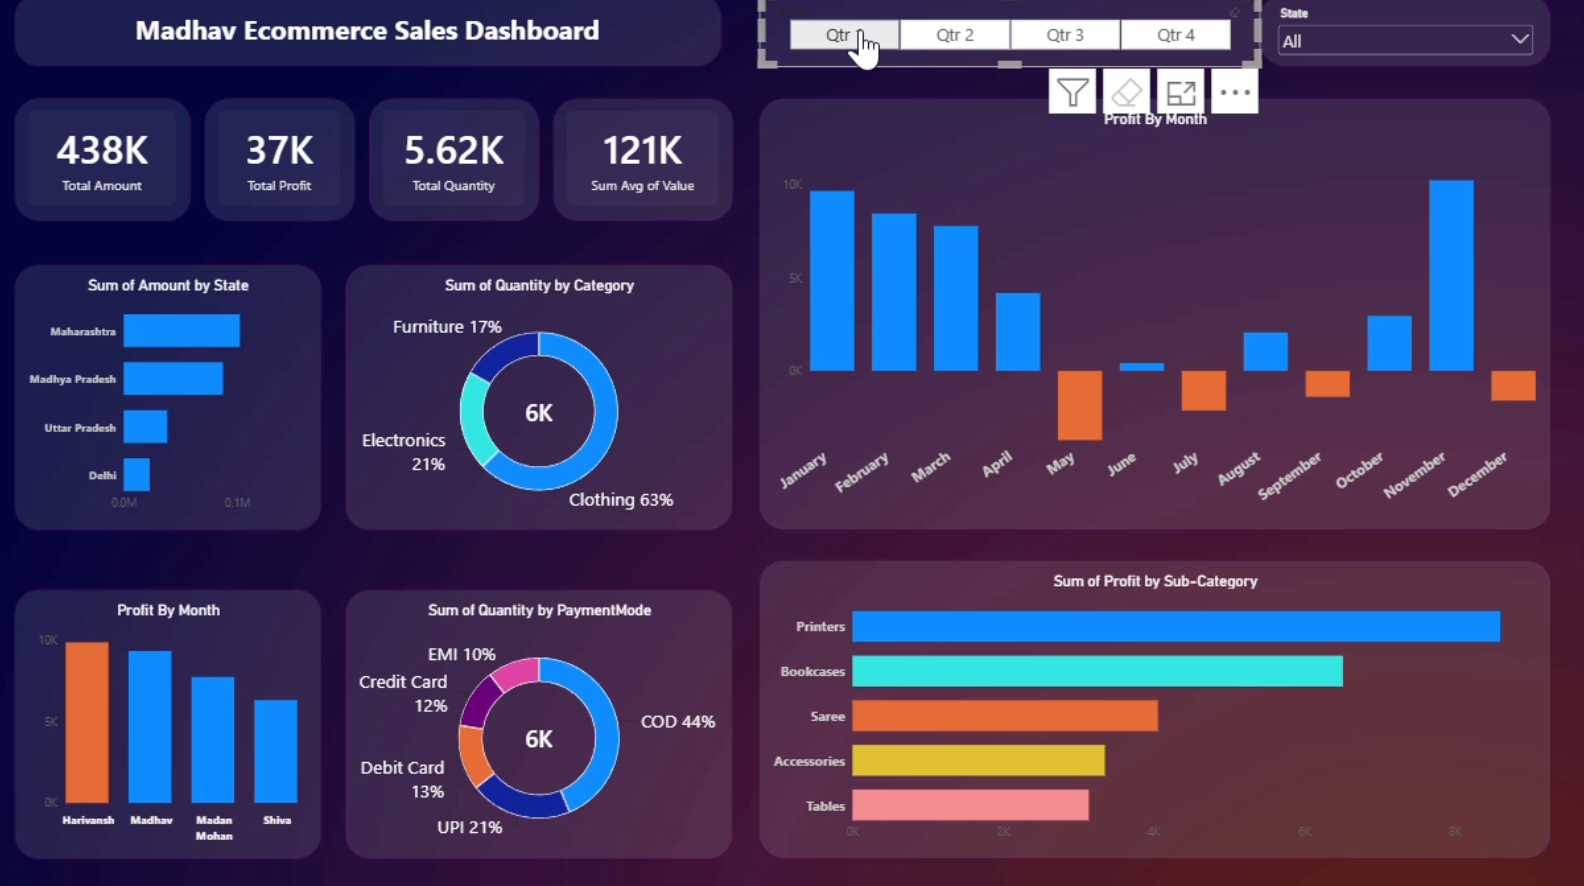

The dashboard page shown, as its layout file describes it:
{"tool":"powerbi","page":{"name":"Page 1","canvas":[1920,1080],"ordinal":0},"visuals":[{"type":"columnChart","title":"Profit By Month","fields":{"Category":["Orders.Order Date.Variation.Date Hierarchy.Month"],"Y":["Sum(Details.Profit)"]},"box":[923.3,126.5,954.4,520.1],"z":0},{"type":"textbox","box":[26.2,0,851.8,88.3],"z":1000},{"type":"barChart","fields":{"Category":["Details.Sub-Category"],"Y":["Sum(Details.Profit)"]},"box":[923.3,682.4,954.4,360.3],"z":2000},{"type":"donutChart","fields":{"Category":["Details.Category"],"Y":["Sum(Details.Quantity)"]},"box":[424.7,326.9,467.6,319.7],"z":3000},{"type":"donutChart","fields":{"Category":["Details.PaymentMode"],"Y":["Sum(Details.Quantity)"]},"box":[424.7,718.2,467.6,324.5],"z":4000},{"type":"cardVisual","fields":{"Data":["Details.Sum of Amount"]},"box":[26.2,126.5,212.3,147.9],"z":5000},{"type":"cardVisual","fields":{"Data":["Details.Total Profit"]},"box":[255.3,126.5,181.3,147.9],"z":6000},{"type":"cardVisual","fields":{"Data":["Details.Total Quantity"]},"box":[453.3,126.5,205.2,147.9],"z":7000},{"type":"cardVisual","fields":{"Data":["Details.Sum Avg of Value"]},"box":[675.2,126.5,217.1,147.9],"z":8000},{"type":"barChart","fields":{"Category":["Orders.State"],"Y":["Sum(Details.Amount)"]},"box":[26.2,326.9,369.8,319.7],"z":9000},{"type":"columnChart","title":"Profit By Month","fields":{"Category":["Orders.CustomerName"],"Y":["Sum(Details.Amount)"]},"box":[26.2,718.2,369.8,324.5],"z":10000},{"type":"slicer","fields":{"Values":["Orders.Order Date.Variation.Date Hierarchy.Quarter"]},"box":[923.3,0,603.6,88],"z":11000},{"type":"slicer","fields":{"Values":["Orders.State"]},"box":[1527,0,350.7,88.3],"z":12000}]}

Visuals, with their boxes in screenshot pixels (x1, y1, x2, y2), scaled from the page's 1920x1080 canvas onto the 1584x886 screenshot:
"Profit By Month" columnChart: {"x1": 762, "y1": 104, "x2": 1549, "y2": 530}
textbox: {"x1": 22, "y1": 0, "x2": 724, "y2": 72}
barChart - Details.Sub-Category x Sum(Details.Profit): {"x1": 762, "y1": 560, "x2": 1549, "y2": 855}
donutChart - Details.Category x Sum(Details.Quantity): {"x1": 350, "y1": 268, "x2": 736, "y2": 530}
donutChart - Details.PaymentMode x Sum(Details.Quantity): {"x1": 350, "y1": 589, "x2": 736, "y2": 855}
cardVisual - Details.Sum of Amount: {"x1": 22, "y1": 104, "x2": 197, "y2": 225}
cardVisual - Details.Total Profit: {"x1": 211, "y1": 104, "x2": 360, "y2": 225}
cardVisual - Details.Total Quantity: {"x1": 374, "y1": 104, "x2": 543, "y2": 225}
cardVisual - Details.Sum Avg of Value: {"x1": 557, "y1": 104, "x2": 736, "y2": 225}
barChart - Orders.State x Sum(Details.Amount): {"x1": 22, "y1": 268, "x2": 327, "y2": 530}
"Profit By Month" columnChart: {"x1": 22, "y1": 589, "x2": 327, "y2": 855}
slicer - Orders.Order Date.Variation.Date Hierarchy.Quarter: {"x1": 762, "y1": 0, "x2": 1260, "y2": 72}
slicer - Orders.State: {"x1": 1260, "y1": 0, "x2": 1549, "y2": 72}
